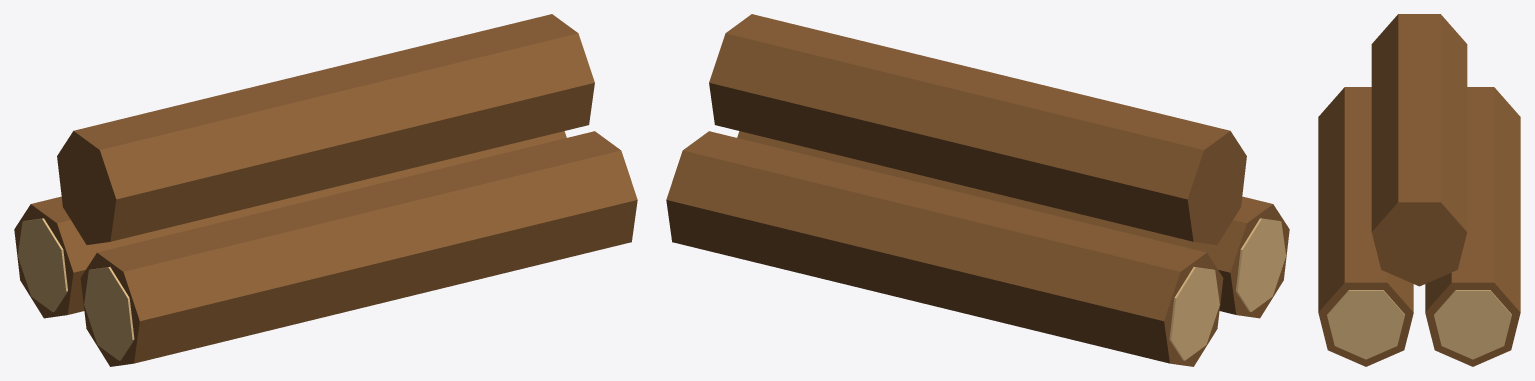
File: drop_logs_oak.glb
The picture shows the model from 3 angles, left to right: view 1: azimuth 30°, elevation 25°; view 2: azimuth 150°, elevation 25°; view 3: azimuth 270°, elevation 25°; orthographic projection. The views are drawn at different scales.
Visible parts, largest first — view 1: drop_logs_oak; view 2: drop_logs_oak; view 3: drop_logs_oak.
Part boxes in pixels (x1=…): drop_logs_oak: x1=14, y1=14, x2=637, y2=366; drop_logs_oak: x1=666, y1=14, x2=1289, y2=366; drop_logs_oak: x1=1318, y1=14, x2=1520, y2=366.
Size of the model in its own units: 0.524 by 0.1996 by 0.2272.
